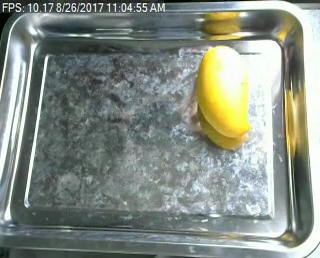Mango: (194, 42, 256, 139)
